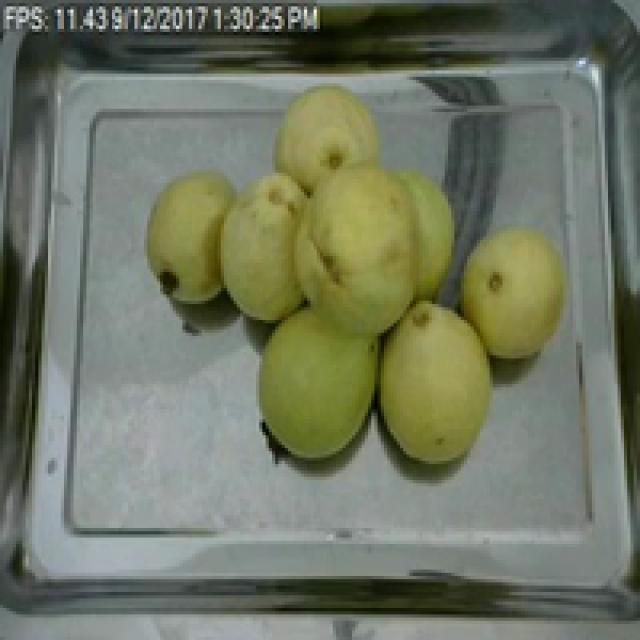Fruit: (208, 74, 474, 346), (365, 291, 502, 474), (250, 294, 387, 468), (444, 211, 586, 368), (141, 163, 243, 314)
